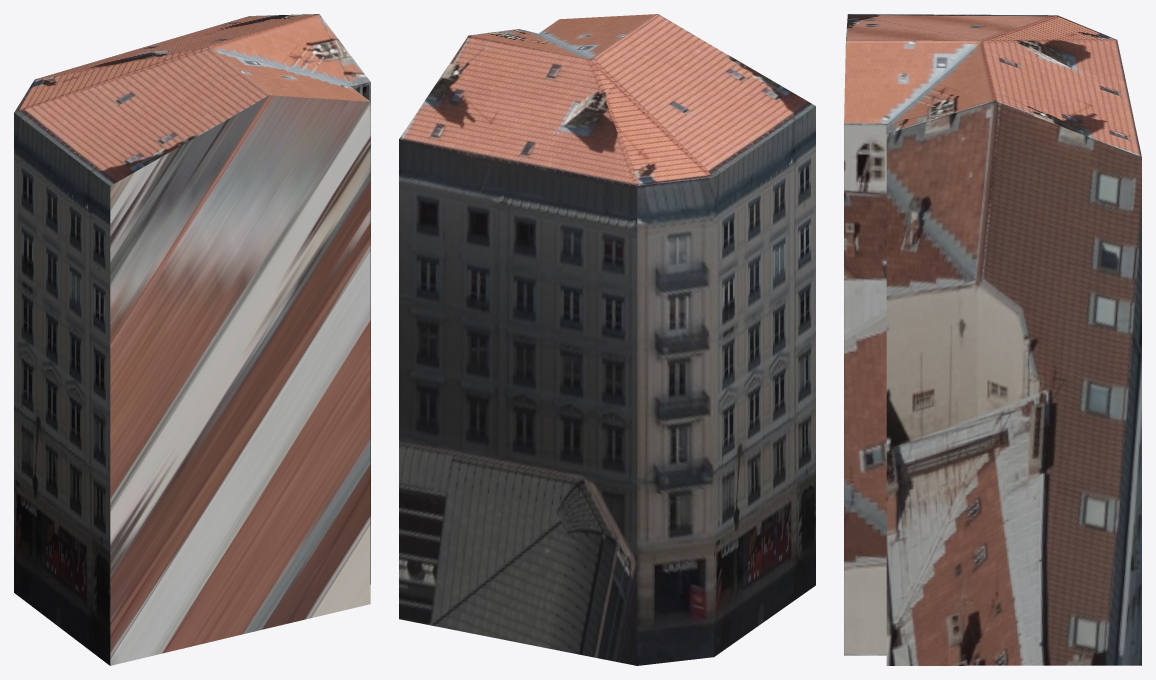
3 views of the same model, side by side, from view 1: azimuth 30°, elevation 25°; view 2: azimuth 150°, elevation 25°; view 3: azimuth 270°, elevation 25° (orthographic). The views are drawn at different scales.
Parts seen in each view (by area): view 1: Z_UP; view 2: Z_UP; view 3: Z_UP.
Boxes of the visible parts, x1,y1,x2,y2 form: Z_UP: (14, 14, 370, 665); Z_UP: (399, 14, 815, 665); Z_UP: (844, 14, 1141, 665).
Bounding box in the file's own units: 16.26 × 29.71 × 14.21.
2 materials, 1 textured.
